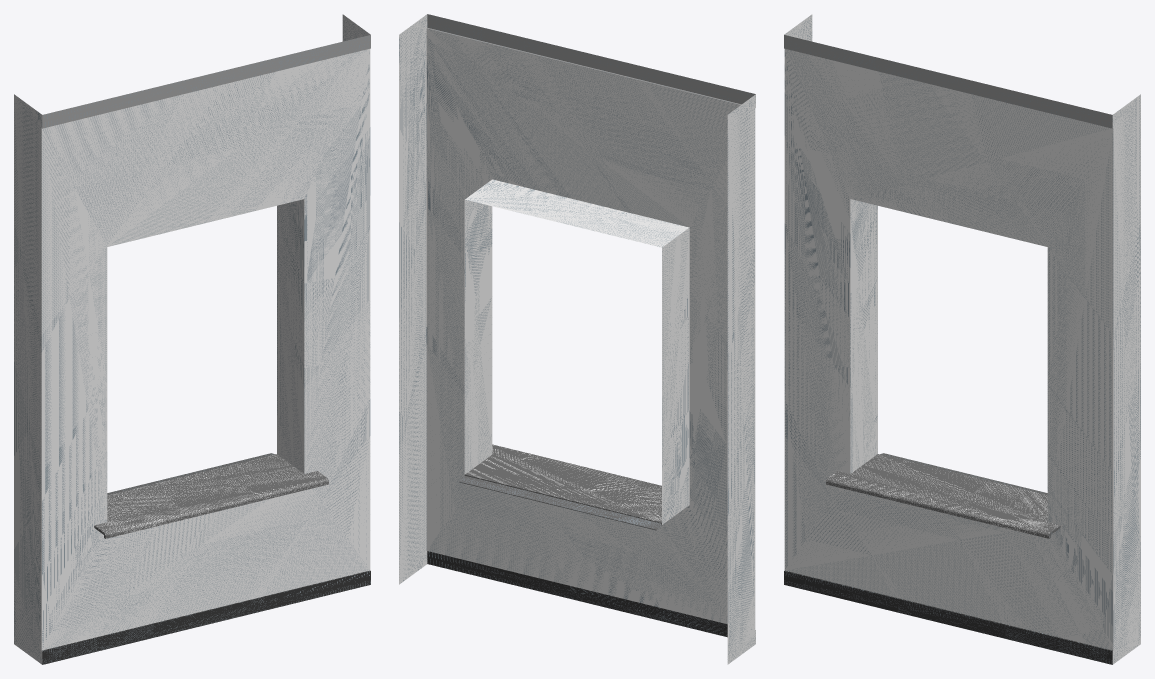
File: WindowBlock_os_plinth_[250x400]_150x200x[090].dae
3 views of the same model, side by side, from view 1: azimuth 30°, elevation 25°; view 2: azimuth 150°, elevation 25°; view 3: azimuth 330°, elevation 25° (orthographic).
Visible parts, largest first — view 1: group_1 (×4), group_2; view 2: group_1 (×4), group_2 (×2); view 3: group_1 (×4), group_2.
Part boxes in pixels (bbox=[...]): group_1 (×4): bbox=[14, 14, 370, 664]; group_2: bbox=[94, 454, 328, 538]; group_1 (×4): bbox=[399, 14, 755, 664]; group_2 (×2): bbox=[459, 444, 661, 530]; group_1 (×4): bbox=[784, 14, 1140, 664]; group_2: bbox=[826, 454, 1060, 538].
Bounding box in the file's own units: 98.43 × 23.03 × 157.
